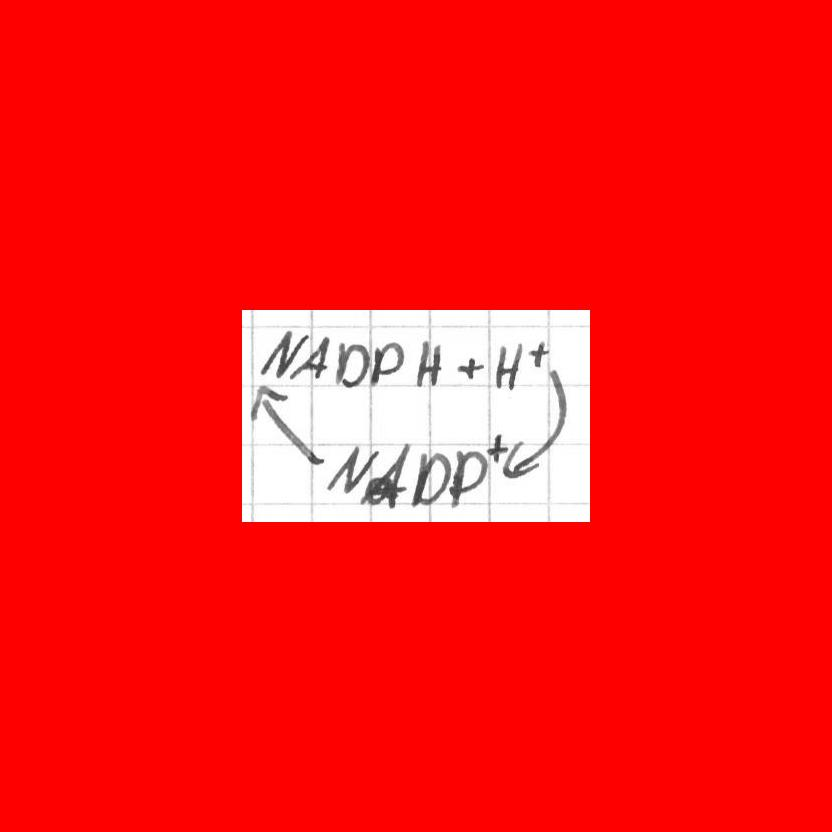Char: (324, 442, 379, 499), (368, 440, 410, 509), (409, 448, 451, 510), (259, 327, 303, 381), (447, 447, 486, 507), (367, 337, 408, 389), (332, 339, 370, 390), (290, 334, 332, 379), (411, 338, 445, 388), (493, 341, 524, 391), (453, 353, 486, 382), (527, 338, 553, 370), (485, 430, 507, 463)
